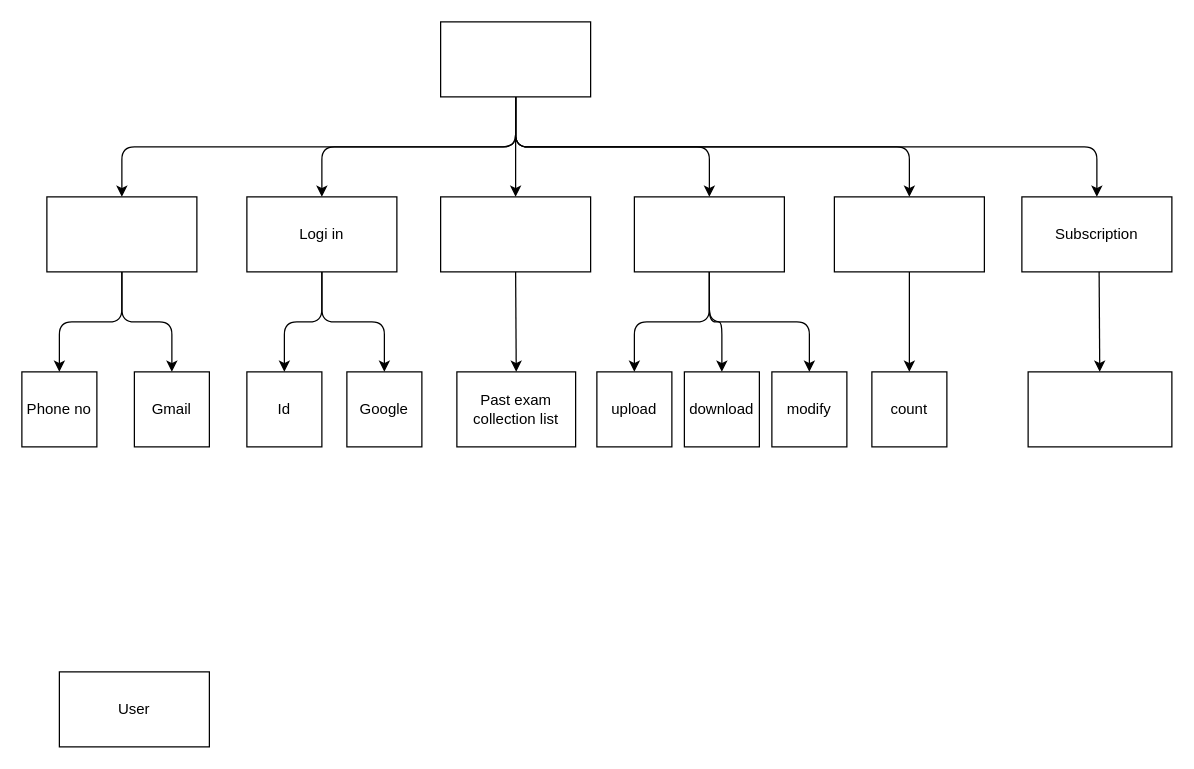
Image size: 1194x769. Some labels were removed from this diagram. Each missing label, with the centre of its shape:
"Homepage" goes at pixel 515 234.
"management" goes at pixel 1099 409.
"My favorite list" goes at pixel 908 234.
"My past exam manage" goes at pixel 708 234.
"Register" goes at pixel 121 234.
"あうとるつく Website" goes at pixel 515 59.
